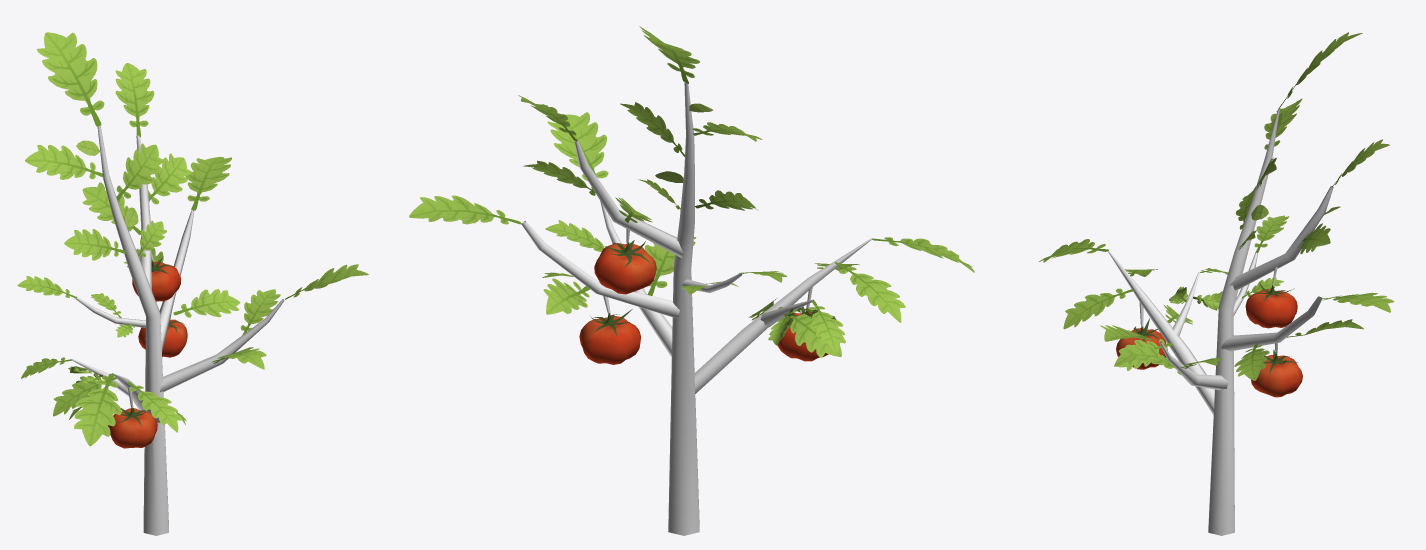
The picture shows the model from 3 angles, left to right: view 1: azimuth 30°, elevation 25°; view 2: azimuth 150°, elevation 25°; view 3: azimuth 270°, elevation 25°; orthographic projection. The views are drawn at different scales.
Parts seen in each view (by area): view 1: 番茄苗03; view 2: 番茄苗03; view 3: 番茄苗03.
Part boxes in pixels (left/top/right/bottom): 番茄苗03: left=17, top=32, right=368, bottom=535; 番茄苗03: left=409, top=26, right=974, bottom=535; 番茄苗03: left=1039, top=32, right=1394, bottom=535.
Bounding box in the file's own units: 62.5 × 82.49 × 59.73.
